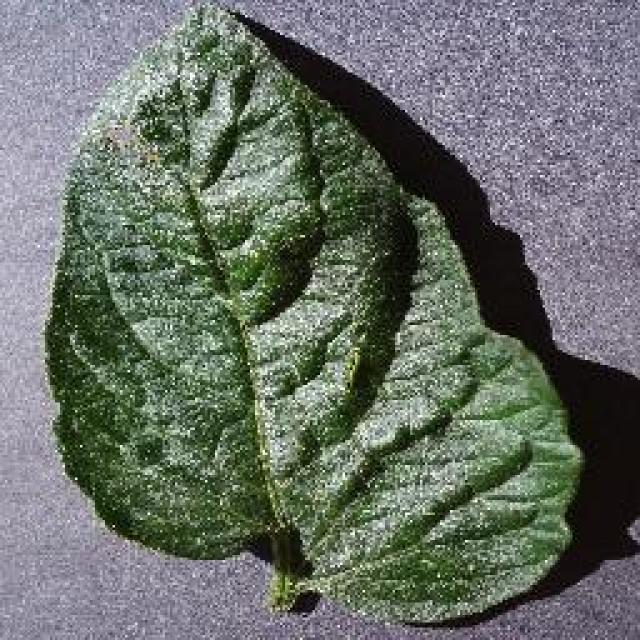Tomato healthy leaf: (47, 9, 575, 616)
